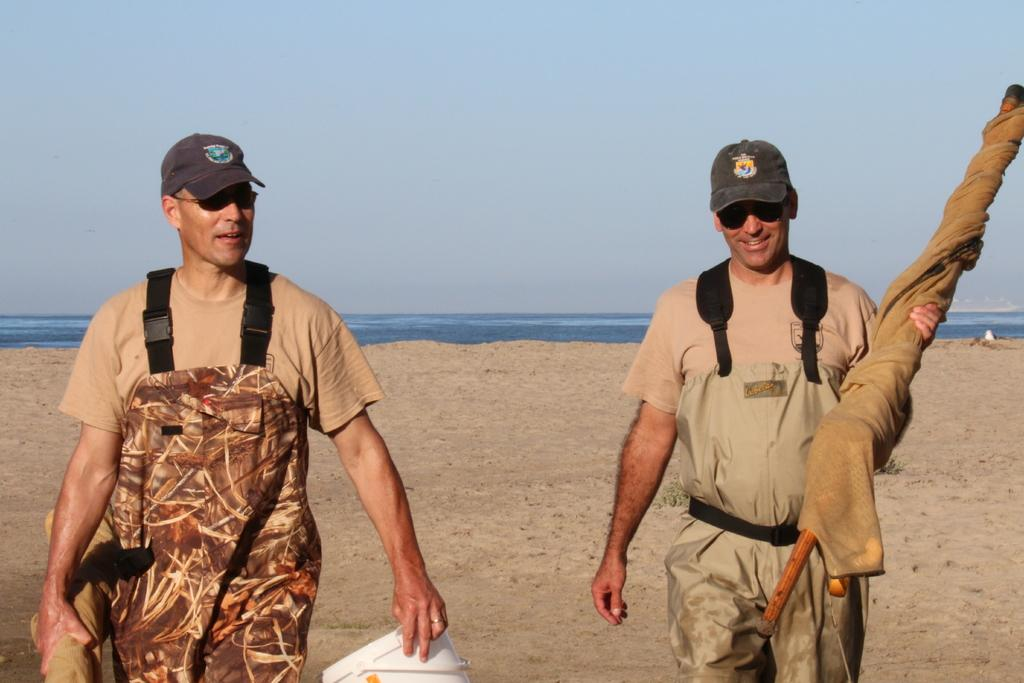Hat: (160, 130, 259, 200), (708, 140, 792, 214)
